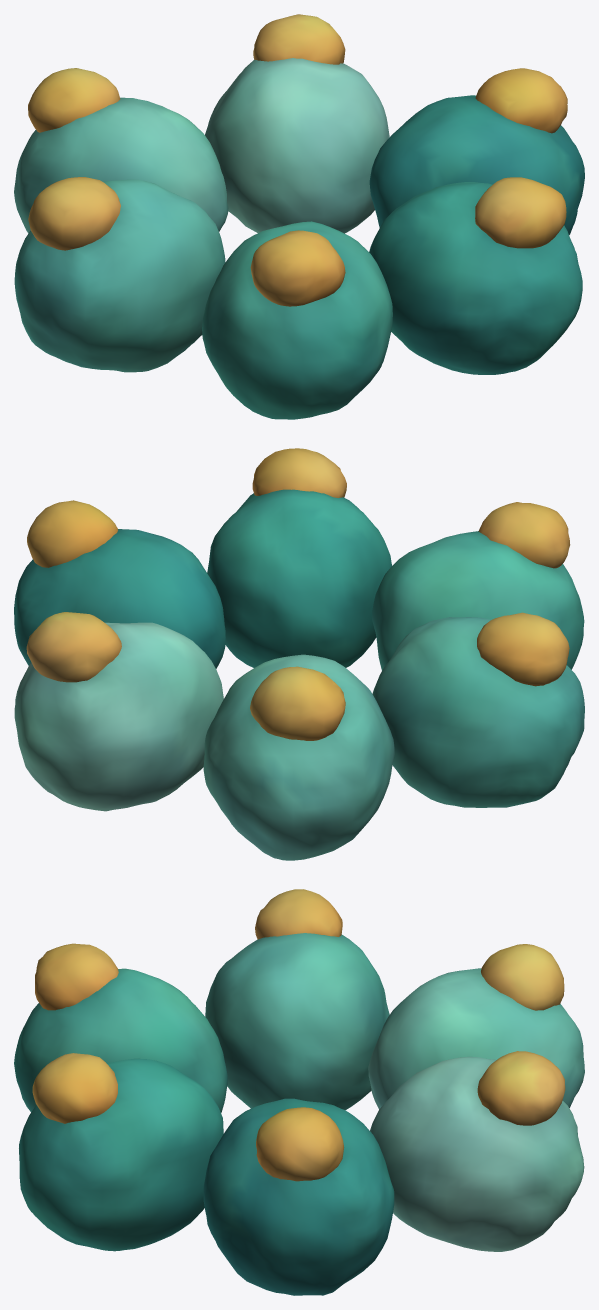
The model's file is helicase.glb.
3 views of the same model, one above another, from view 1: azimuth 30°, elevation 25°; view 2: azimuth 150°, elevation 25°; view 3: azimuth 270°, elevation 25° (orthographic).
Visible parts, largest first — view 1: helicase-subunits, helicase-tails; view 2: helicase-subunits, helicase-tails; view 3: helicase-subunits, helicase-tails.
Boxes of the visible parts, box(x1,y1,x2,y2) form: helicase-subunits: box(14, 58, 584, 419); helicase-tails: box(28, 14, 567, 306); helicase-subunits: box(14, 489, 584, 860); helicase-tails: box(26, 448, 570, 740); helicase-subunits: box(14, 933, 584, 1295); helicase-tails: box(32, 889, 565, 1181).
Size of what is drawn, in the model's own units: 1.73 by 0.5903 by 1.56.
